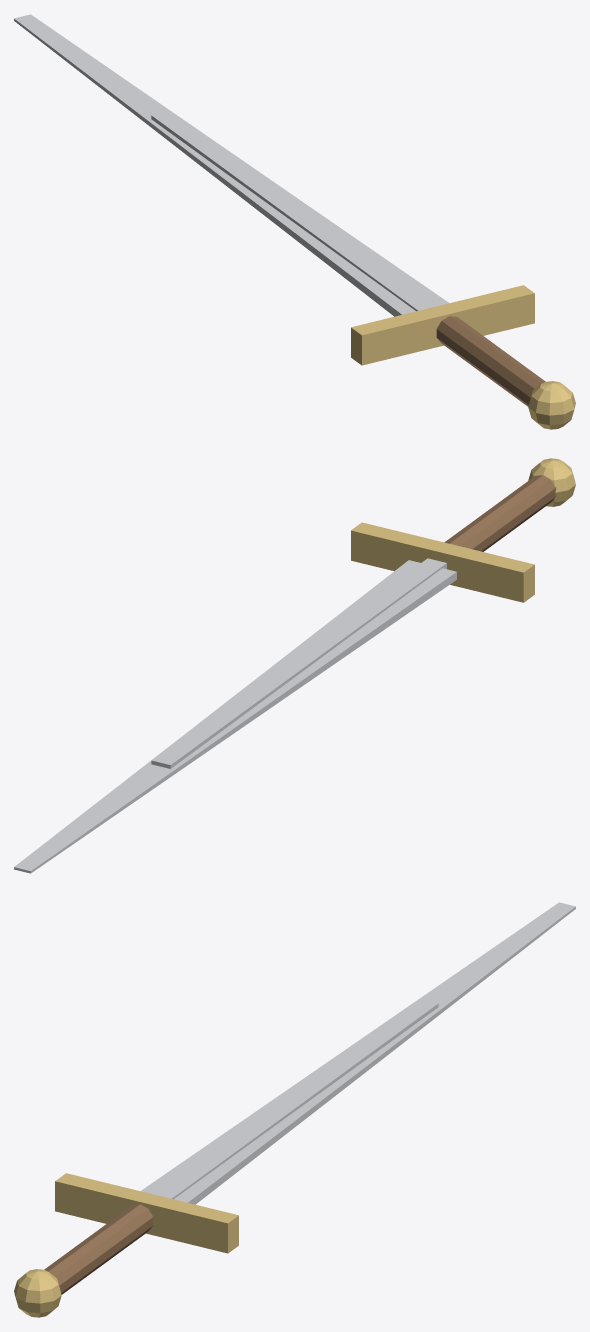
File: sword.glb
3 views of the same model, one above another, from view 1: azimuth 30°, elevation 25°; view 2: azimuth 150°, elevation 25°; view 3: azimuth 330°, elevation 25° (orthographic).
Parts seen in each view (by area): view 1: sword; view 2: sword; view 3: sword.
Boxes of the visible parts, bbox=[...] form: sword: bbox=[14, 14, 575, 429]; sword: bbox=[14, 458, 575, 873]; sword: bbox=[14, 902, 575, 1317].
Bounding box in the file's own units: 0.18 × 0.044 × 0.977.
